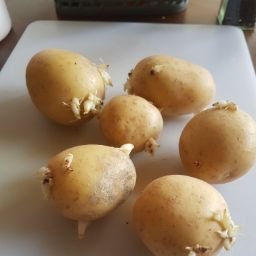Russet potato: (11, 44, 256, 256), (27, 139, 139, 238), (132, 168, 240, 256), (13, 42, 107, 127), (180, 100, 256, 193), (121, 47, 221, 114), (102, 89, 169, 157)
